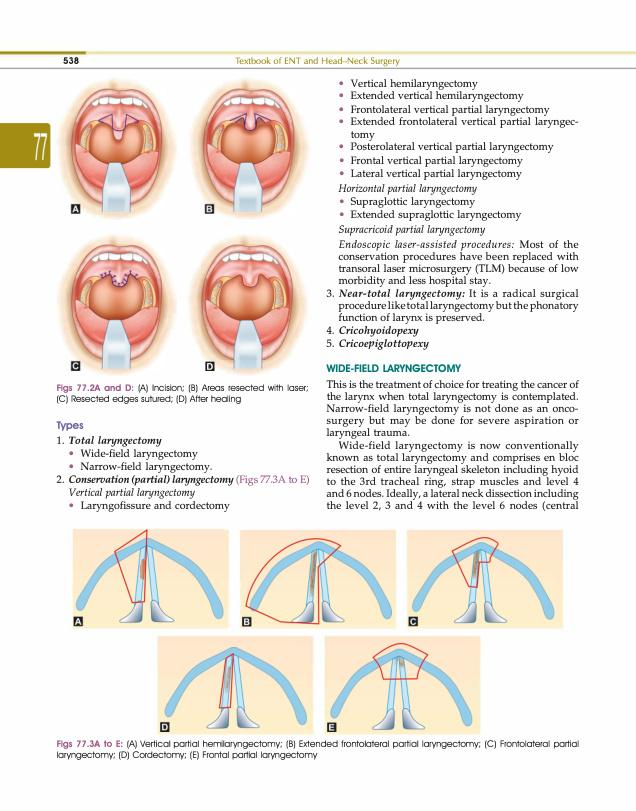caption: (56, 738, 580, 761), (55, 383, 309, 405), (205, 204, 214, 214), (71, 361, 80, 370), (74, 617, 82, 626), (243, 617, 251, 626), (409, 617, 417, 626), (328, 723, 336, 732), (206, 362, 214, 371), (161, 723, 169, 731), (72, 205, 80, 213)
header: (234, 56, 401, 67)
image: (182, 74, 315, 225), (182, 230, 314, 380), (52, 74, 181, 225), (52, 230, 180, 380), (71, 528, 230, 631), (405, 528, 565, 630), (323, 634, 482, 736), (239, 528, 397, 630), (156, 635, 315, 736)
list: (325, 76, 581, 352), (54, 434, 310, 513)
sub-section-heading: (324, 363, 462, 373), (55, 420, 85, 432)
text: (323, 378, 581, 514)
